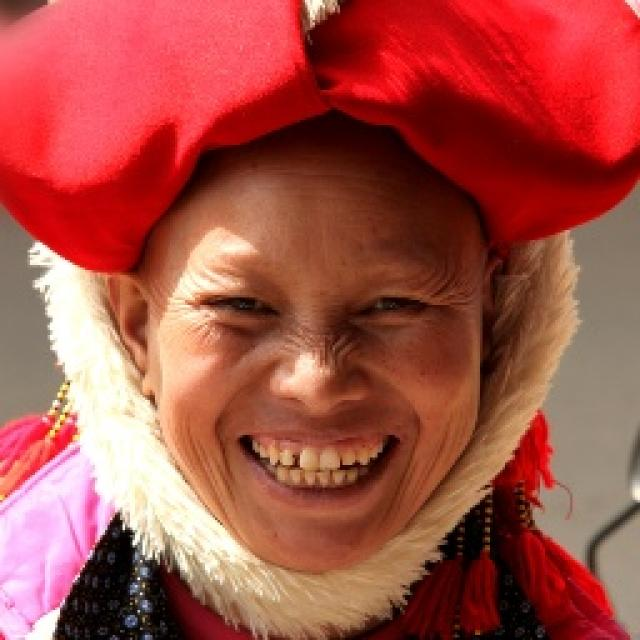earlobe: (134, 374, 159, 398), (474, 342, 496, 364)
eye: (208, 290, 276, 318), (361, 294, 420, 319)
nose: (272, 395, 364, 423)
wholeear: (99, 268, 153, 395), (476, 256, 506, 362)
